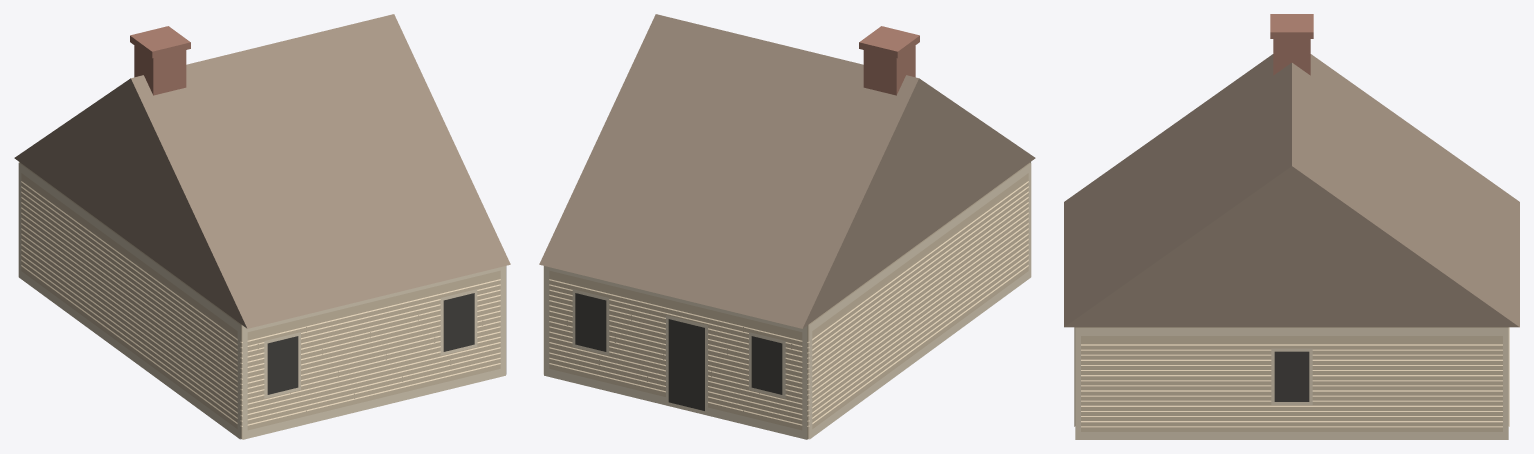
The model's file is recon_1835_south_d5_004__inferred_1835.glb.
3 views of the same model, side by side, from view 1: azimuth 30°, elevation 25°; view 2: azimuth 150°, elevation 25°; view 3: azimuth 270°, elevation 25° (orthographic). The views are drawn at different scales.
Parts seen in each view (by area): view 1: recon_1835_south_d5_004__inferred_1835; view 2: recon_1835_south_d5_004__inferred_1835; view 3: recon_1835_south_d5_004__inferred_1835.
Boxes of the visible parts, x1,y1,x2,y2 form: recon_1835_south_d5_004__inferred_1835: [14, 14, 510, 439]; recon_1835_south_d5_004__inferred_1835: [539, 14, 1035, 439]; recon_1835_south_d5_004__inferred_1835: [1064, 14, 1519, 439].
Size of the model in its own units: 6.76 by 7.57 by 10.26.
